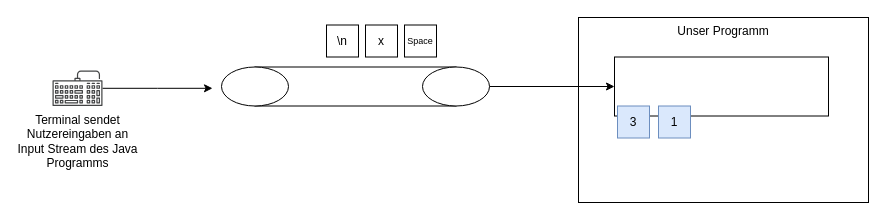
This 886x220 diagram has some shape labels left out. Each missing label, with the box of its shape:
FIFO Speicher (wie ein Transportband): (220, 66, 490, 106)
Scanner (liest Zeichen vom Transportband (FIFO): (614, 56, 828, 116)
